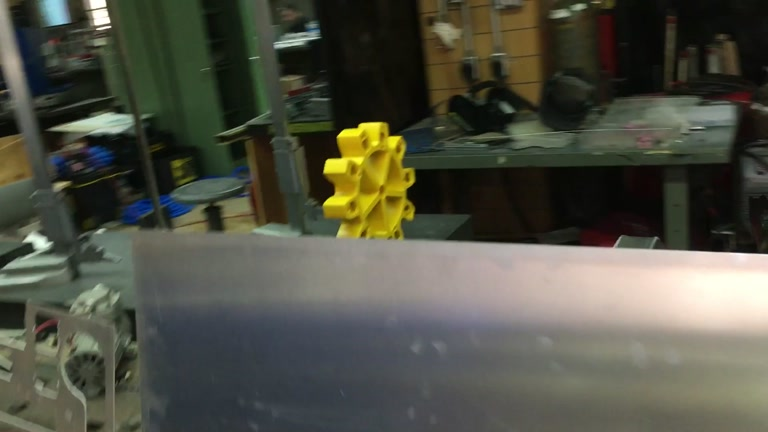gear: (321, 119, 417, 249)
